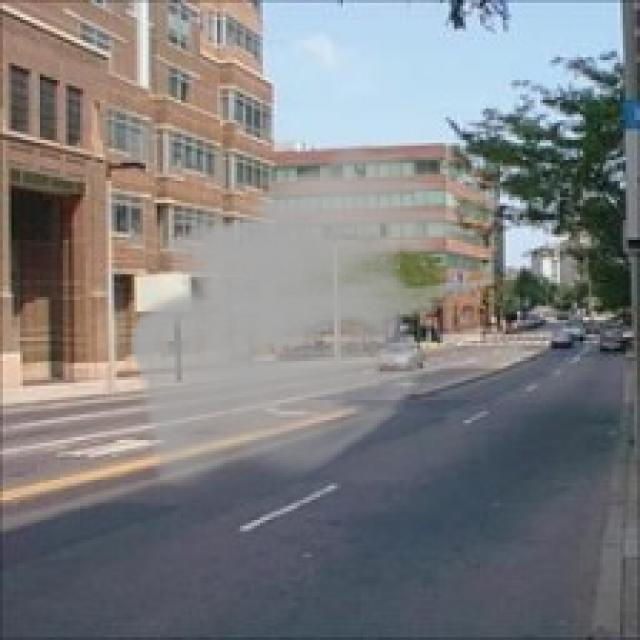smoke: (129, 143, 497, 488)
